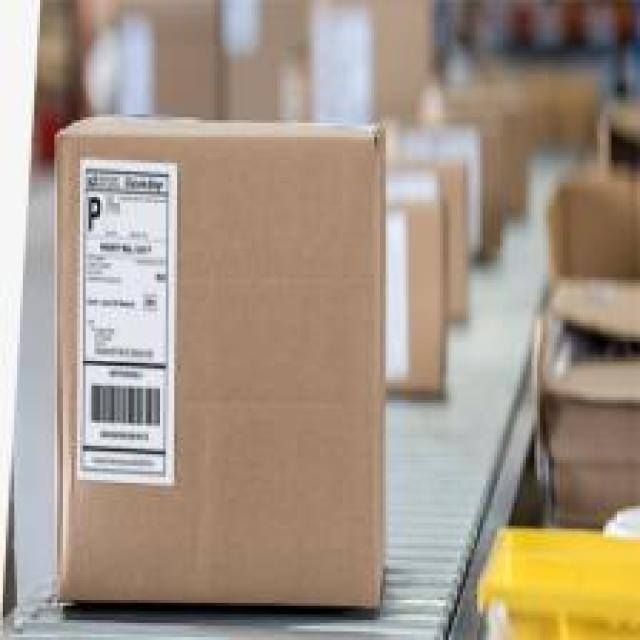box: (51, 114, 391, 616)
